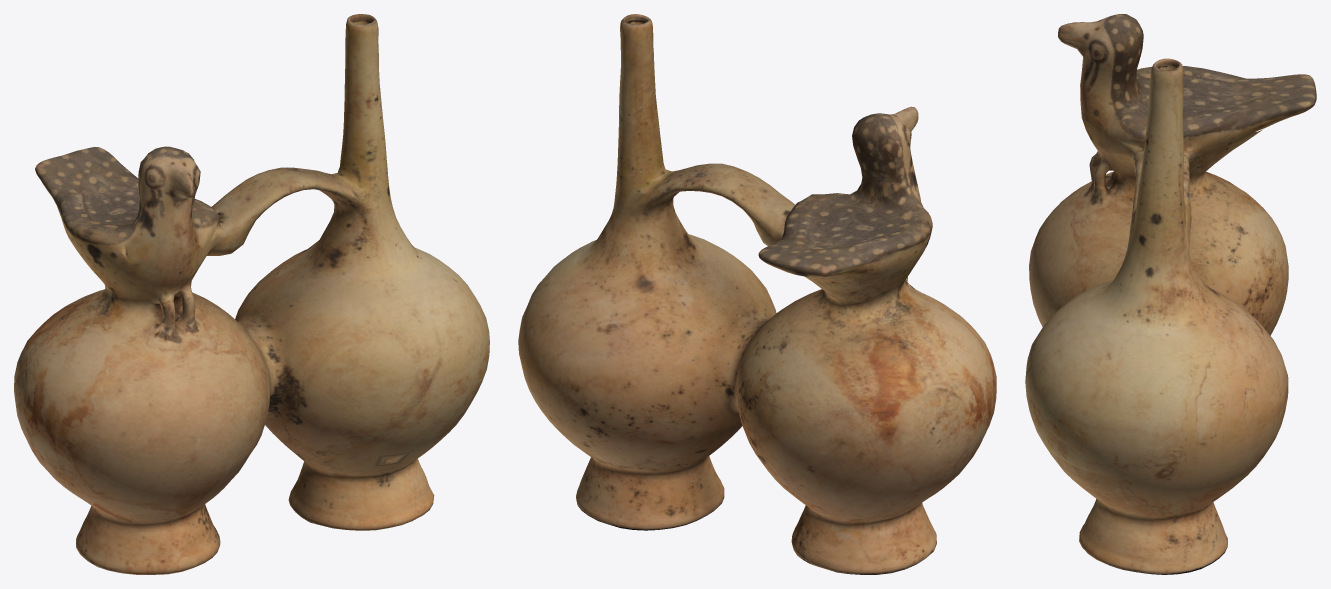
The picture shows the model from 3 angles, left to right: view 1: azimuth 30°, elevation 25°; view 2: azimuth 150°, elevation 25°; view 3: azimuth 270°, elevation 25°; orthographic projection.
Size of the model in its own units: 1.39 by 1.45 by 0.7894.
1 material, 1 textured.
